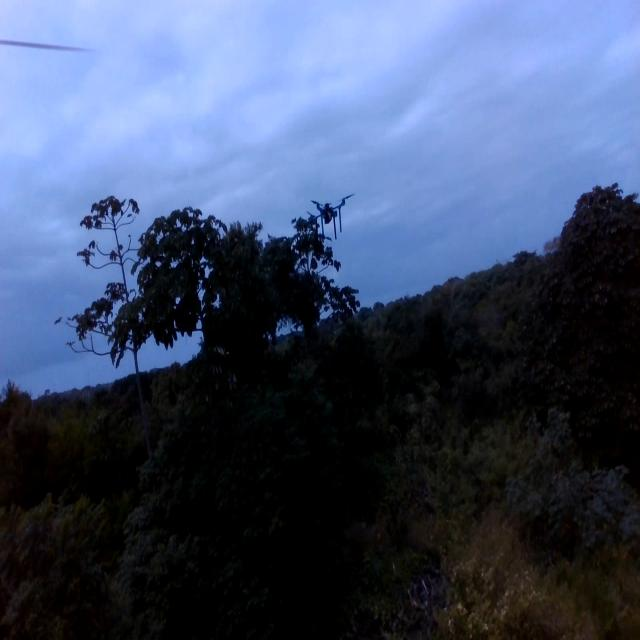-uav-: (308, 184, 355, 250)
